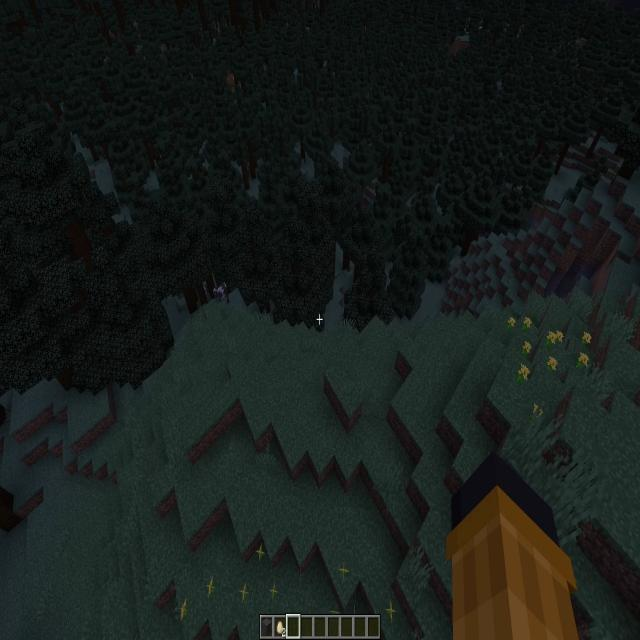Cow: (214, 280, 230, 304), (202, 282, 208, 295)
